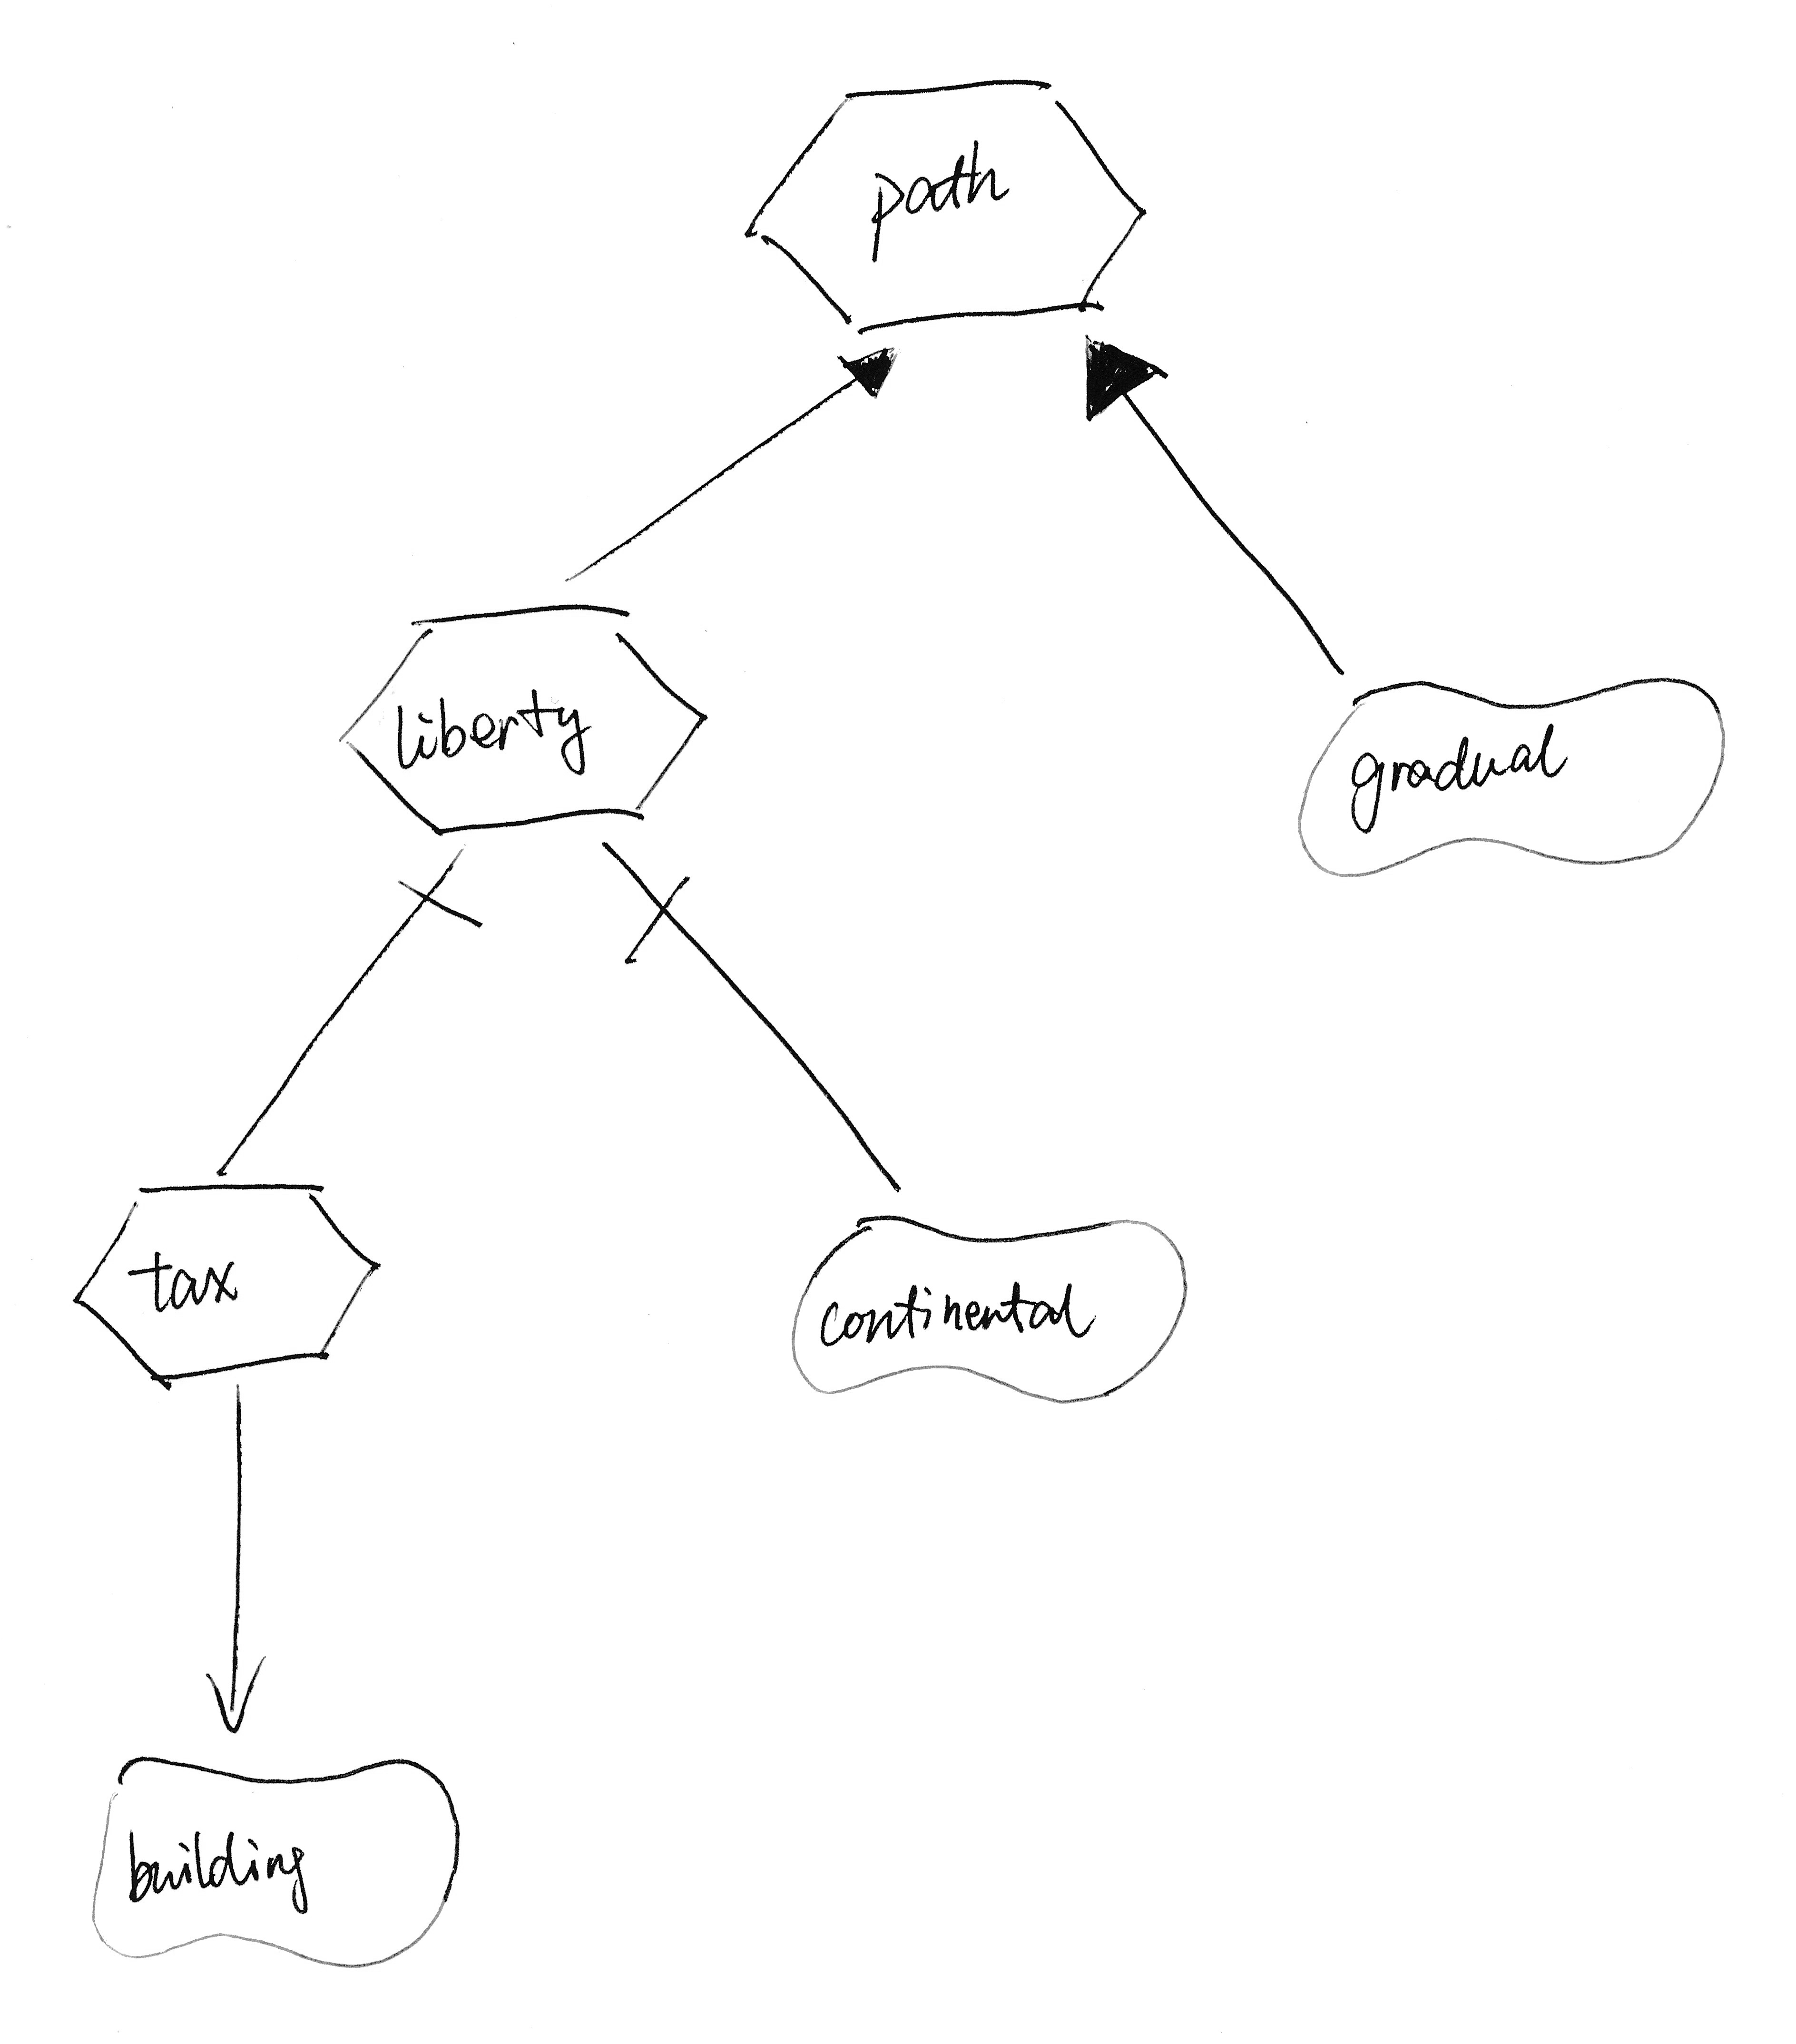and: (596, 853, 701, 992), (369, 845, 487, 949)
arrow: (184, 1655, 289, 1747)
or: (1069, 327, 1177, 443), (812, 337, 918, 421)
quality: (1283, 667, 1739, 897), (63, 1738, 483, 1985), (775, 1189, 1203, 1417)
task: (723, 57, 1160, 346), (320, 584, 718, 850), (50, 1165, 396, 1394)
